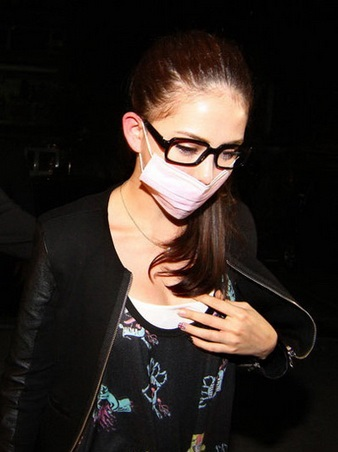face_mask: (147, 87, 244, 225)
